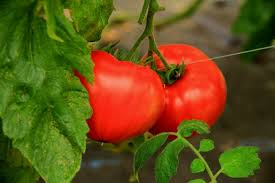tomato: (70, 50, 163, 142), (140, 45, 225, 135)
